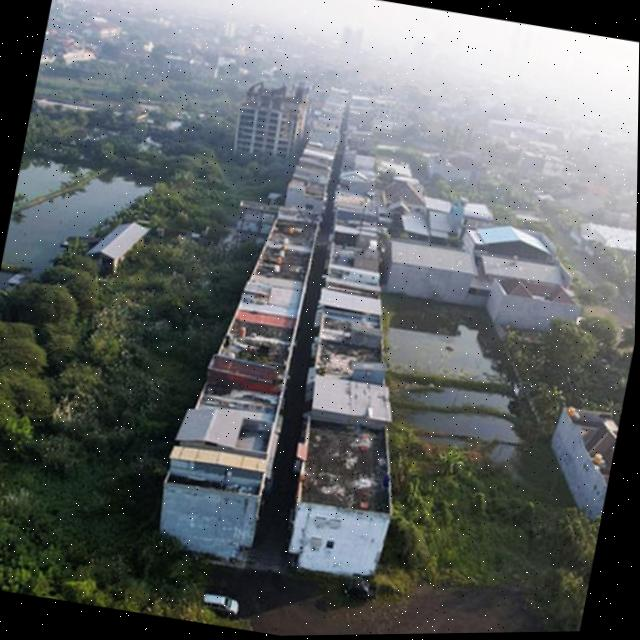building: (266, 223, 440, 586), (154, 203, 319, 568), (371, 222, 592, 344), (532, 396, 622, 529), (227, 68, 310, 165), (414, 140, 503, 198), (562, 207, 637, 275)
